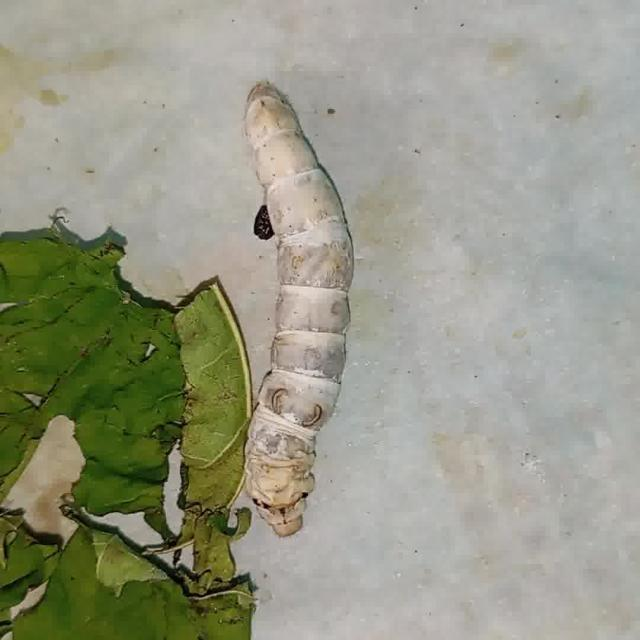Grasserie: (229, 75, 364, 544)
